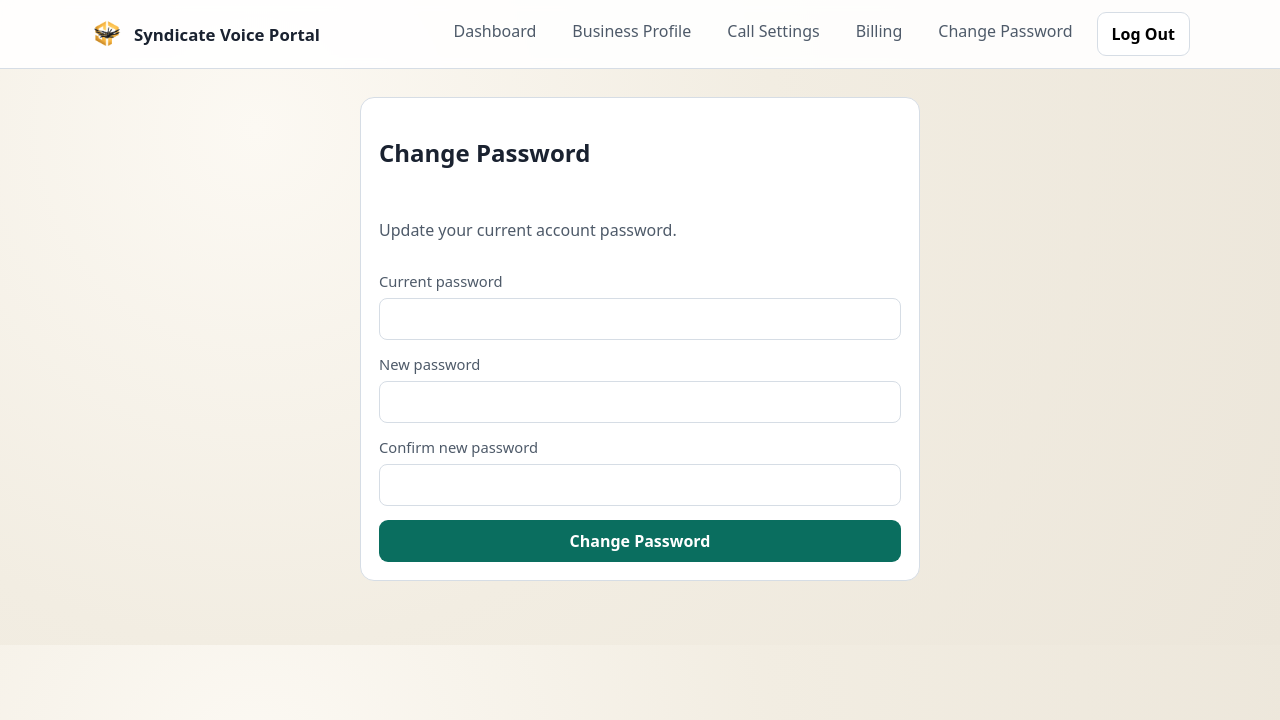
Test: ChangePasswordPage › shows incorrect current password error
The width and height of the screenshot is (1280, 720).
Type "wrong-pass" into the password field labelled "Current password" at (640, 319), box [379, 298, 901, 340]
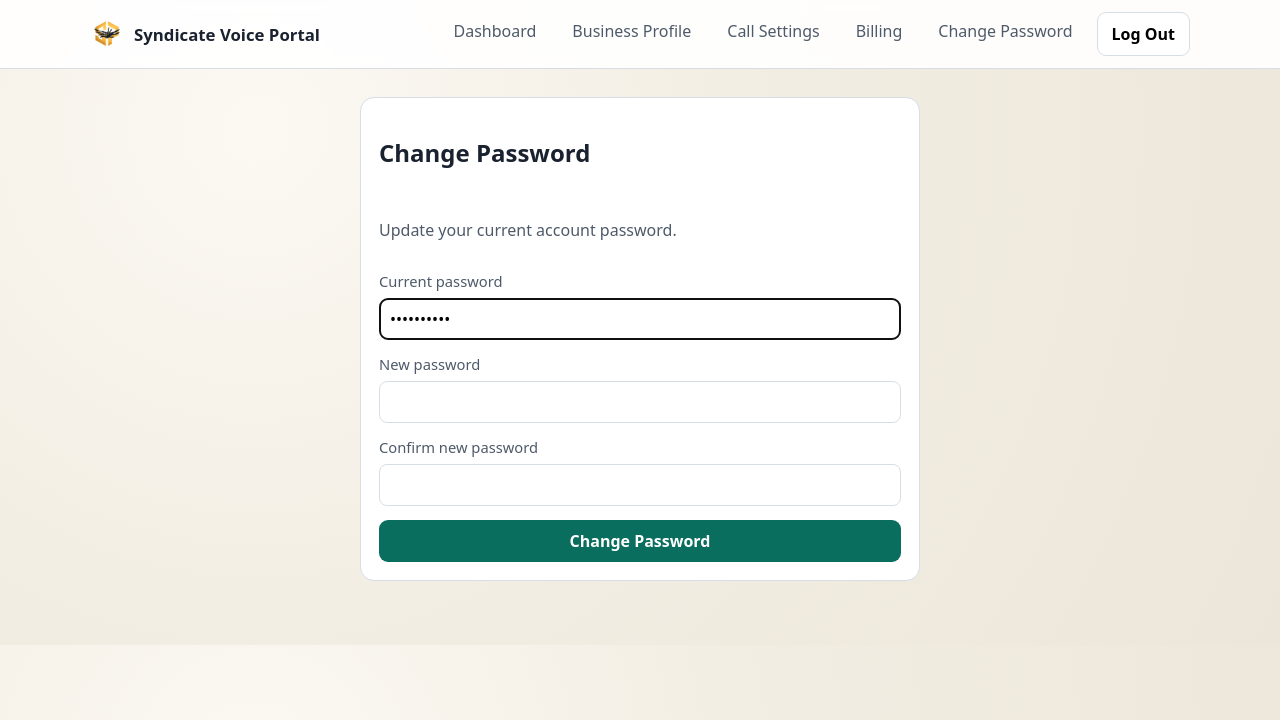
Type "new-password-123" into the password field labelled "New password" at (640, 402), box [379, 381, 901, 423]
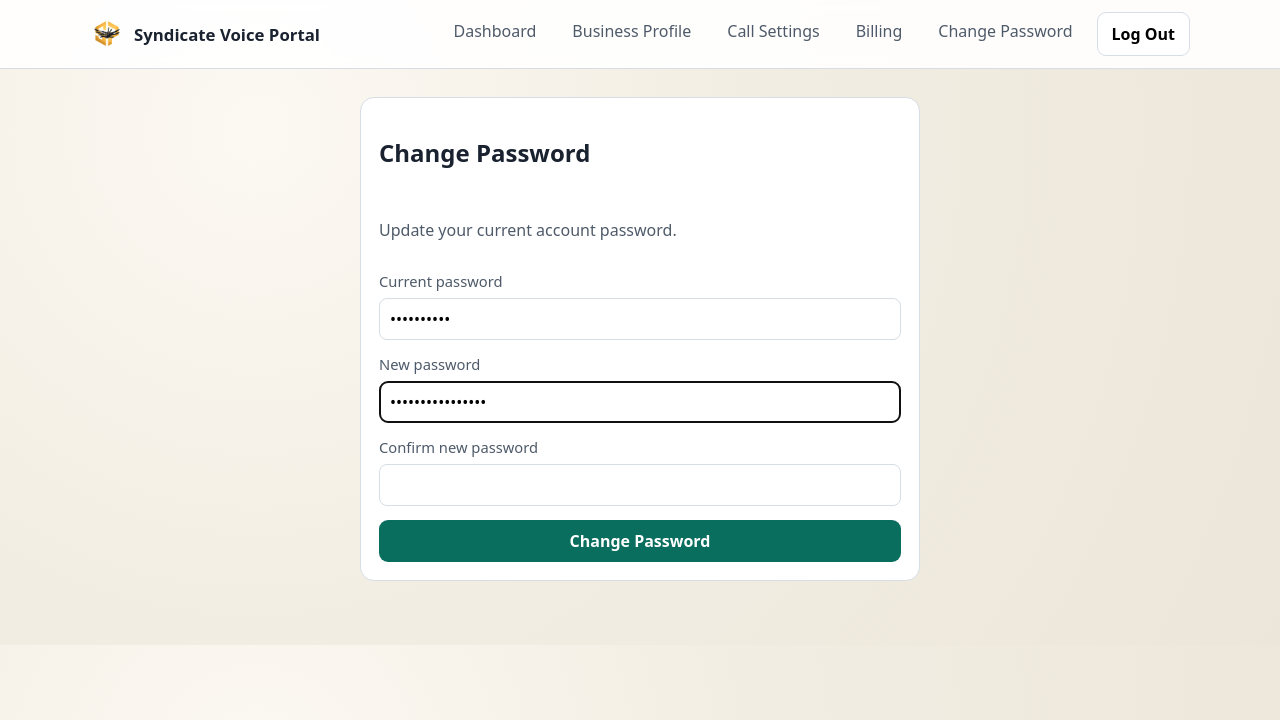
Type "new-password-123" into the password field labelled "Confirm new password" at (640, 485), box [379, 464, 901, 506]
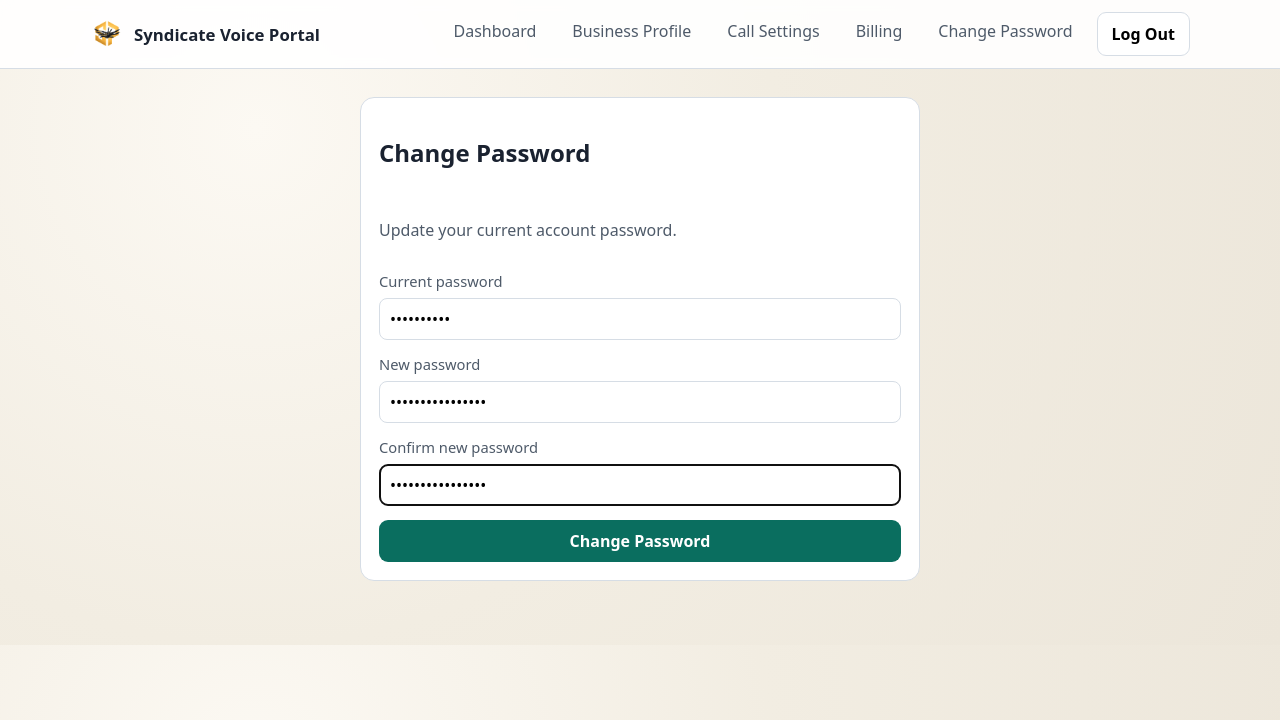
Click the button "Change Password" at (640, 541), box [379, 520, 901, 562]
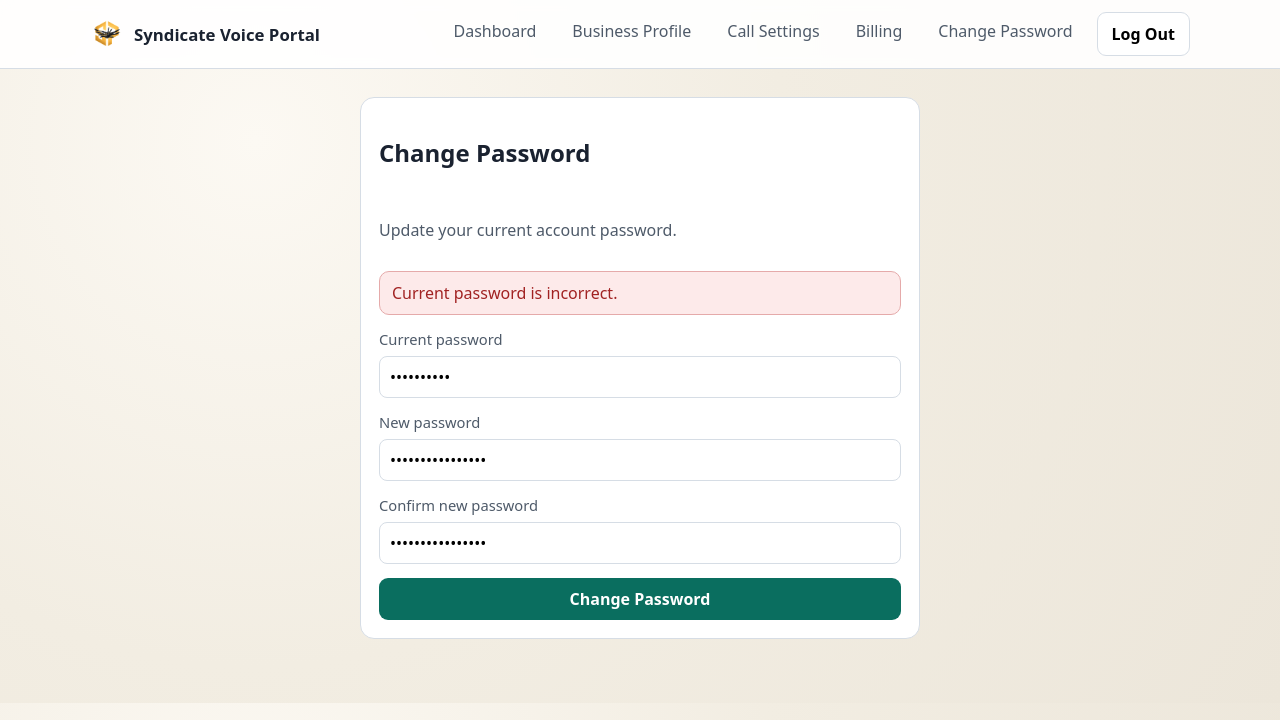
Expected: the text "Current password is incorrect." is shown, [379, 271, 901, 315]
